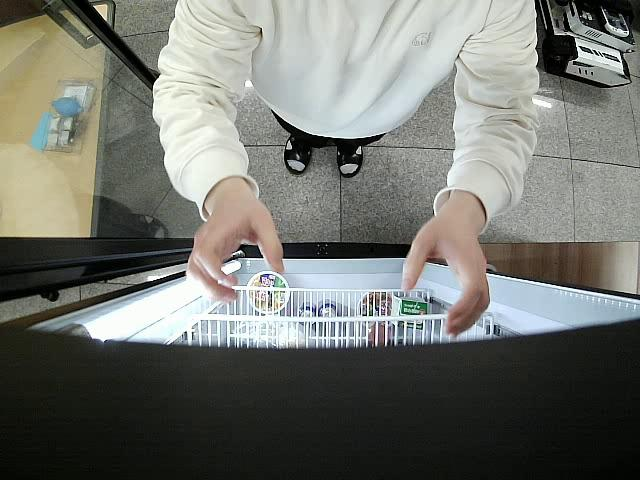00_hand: (401, 209, 492, 340), (186, 197, 286, 304)
